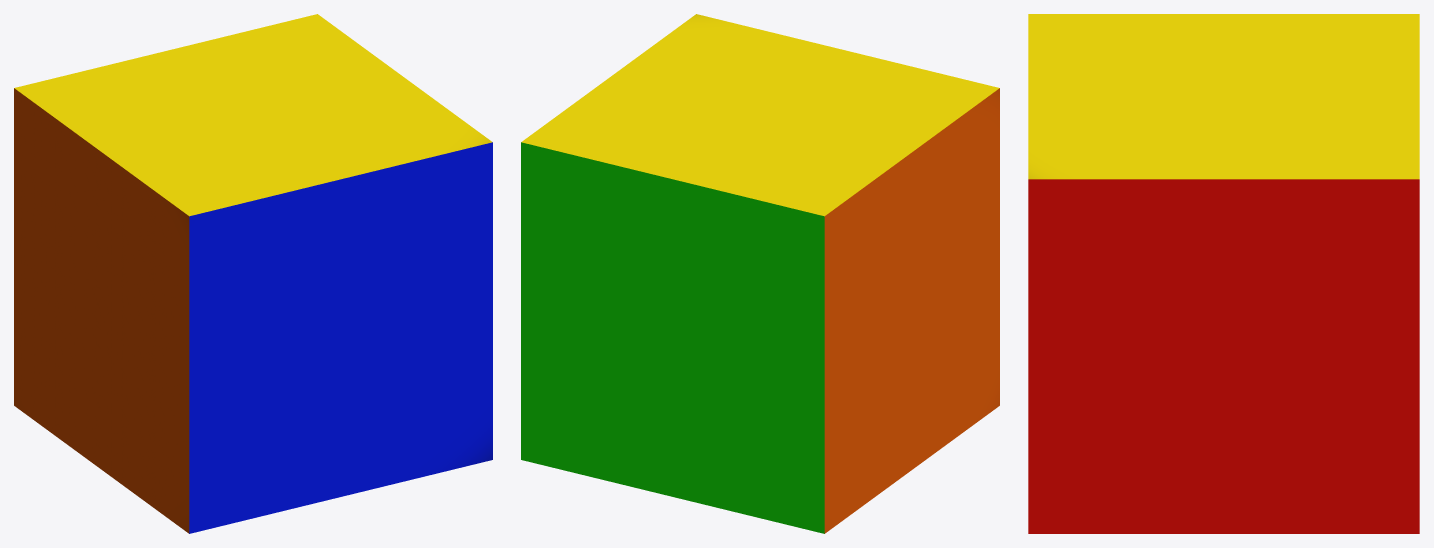
The model's file is NaN Test Cube.fbx.
3 renders of one model, left to right at view 1: azimuth 30°, elevation 25°; view 2: azimuth 150°, elevation 25°; view 3: azimuth 270°, elevation 25°, orthographic. The views are drawn at different scales.
Visible parts, largest first — view 1: Cube; view 2: Cube; view 3: Cube.
Part boxes in pixels (left/top/right/bottom): Cube: left=14, top=14, right=492, bottom=533; Cube: left=521, top=14, right=999, bottom=533; Cube: left=1028, top=14, right=1419, bottom=533.
Bounding box in the file's own units: 200 × 200 × 200.
